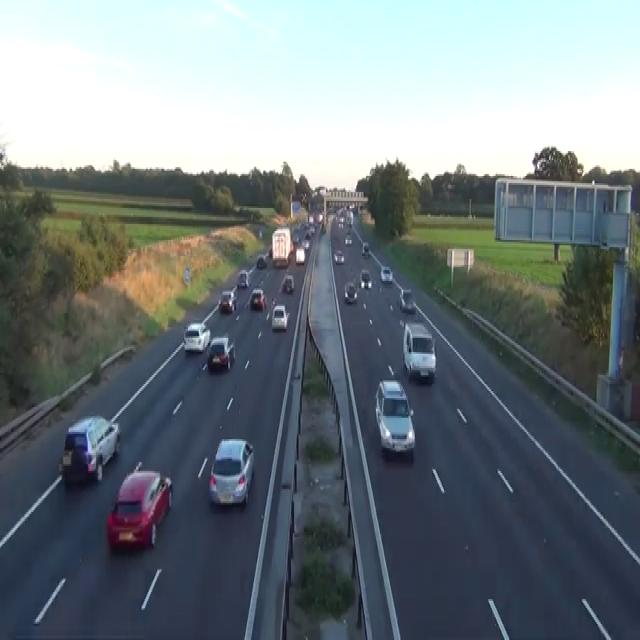Car: (106, 461, 173, 551), (59, 414, 121, 484), (208, 437, 254, 507), (374, 379, 415, 455), (402, 322, 436, 384), (207, 336, 235, 372), (183, 322, 210, 352), (271, 304, 289, 331), (398, 288, 416, 313), (218, 290, 237, 313), (250, 288, 266, 309), (344, 279, 357, 302), (237, 268, 251, 288), (359, 268, 371, 288), (380, 265, 393, 283), (281, 274, 294, 292), (295, 247, 305, 263), (333, 249, 344, 263), (274, 256, 288, 267), (256, 254, 266, 268), (313, 210, 323, 224), (183, 266, 190, 284), (300, 238, 309, 251), (361, 242, 369, 256), (305, 224, 314, 236), (346, 212, 353, 226), (231, 283, 238, 295), (344, 235, 352, 245), (292, 235, 300, 245), (300, 192, 306, 204), (320, 222, 326, 233), (309, 222, 315, 233), (308, 213, 314, 224), (446, 182, 454, 190), (304, 230, 312, 238), (338, 217, 344, 227), (265, 249, 270, 259), (268, 245, 271, 258), (258, 230, 262, 238)
Truck: (271, 226, 291, 266)
